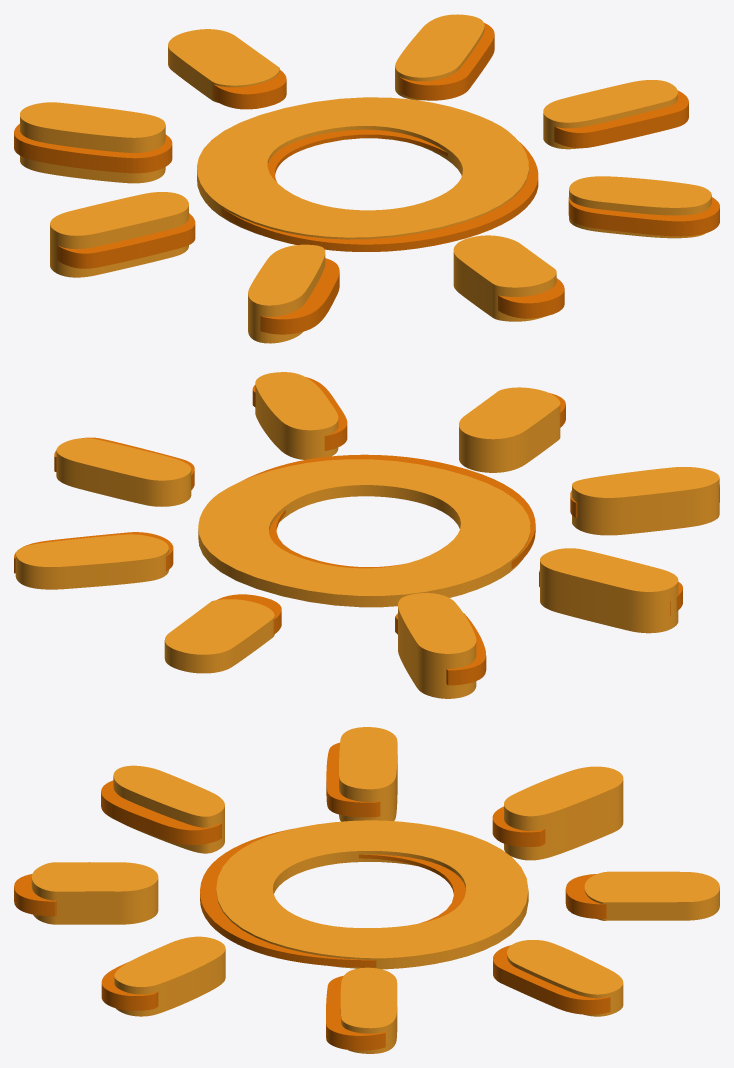
Rendered from emoji_u1f506.glb.
3 renders of one model, top to bottom at view 1: azimuth 30°, elevation 25°; view 2: azimuth 150°, elevation 25°; view 3: azimuth 270°, elevation 25°, orthographic. The views are drawn at different scales.
Visible parts, largest first — view 1: emoji_u1f506; view 2: emoji_u1f506; view 3: emoji_u1f506.
Part boxes in pixels (x1,y1,x2,y2): emoji_u1f506: (14,14,719,343); emoji_u1f506: (14,372,719,698); emoji_u1f506: (14,727,719,1053).
Bounding box in the file's own units: 0.0345 × 0.0024 × 0.0347.
